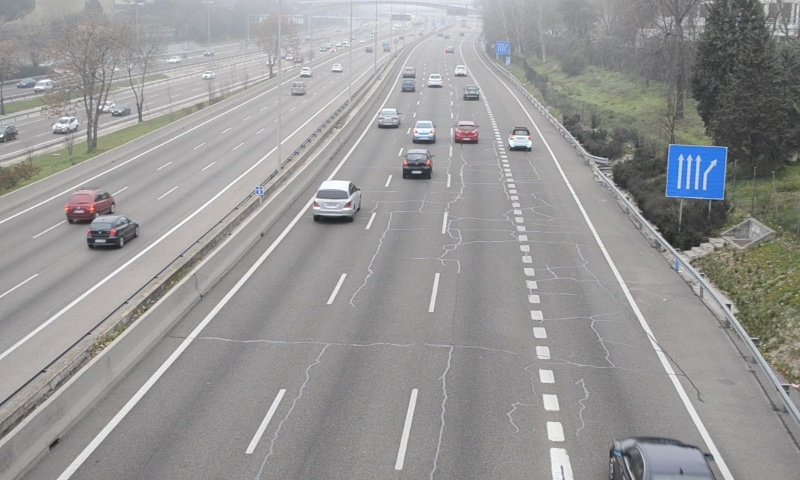car: (313, 179, 362, 217), (402, 149, 434, 179), (508, 126, 532, 152), (455, 120, 480, 144), (412, 120, 436, 144), (377, 108, 402, 129), (463, 85, 481, 102), (426, 73, 443, 88), (400, 78, 416, 93)
